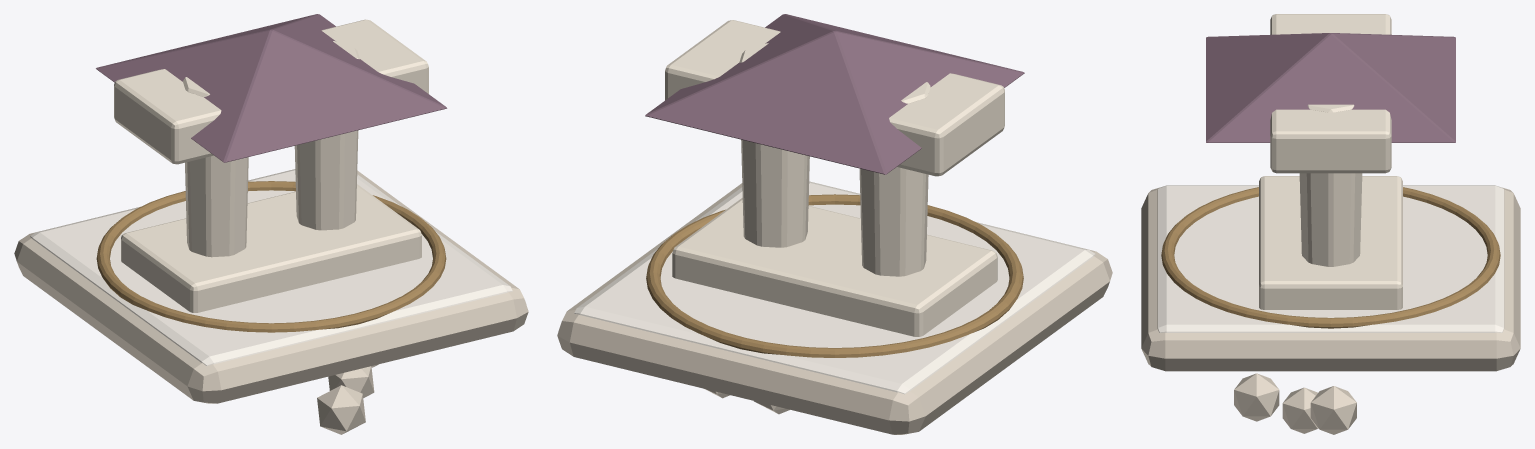
Rendered from island_ctx.glb.
3 views of the same model, side by side, from view 1: azimuth 30°, elevation 25°; view 2: azimuth 150°, elevation 25°; view 3: azimuth 270°, elevation 25° (orthographic). The views are drawn at different scales.
Parts seen in each view (by area): view 1: island_ctx; view 2: island_ctx; view 3: island_ctx.
Boxes of the visible parts, left/top/right/bottom form: island_ctx: left=14, top=14, right=528, bottom=434; island_ctx: left=557, top=14, right=1112, bottom=434; island_ctx: left=1141, top=14, right=1520, bottom=434.
Bounding box in the file's own units: 2.04 × 2.21 × 2.04.
